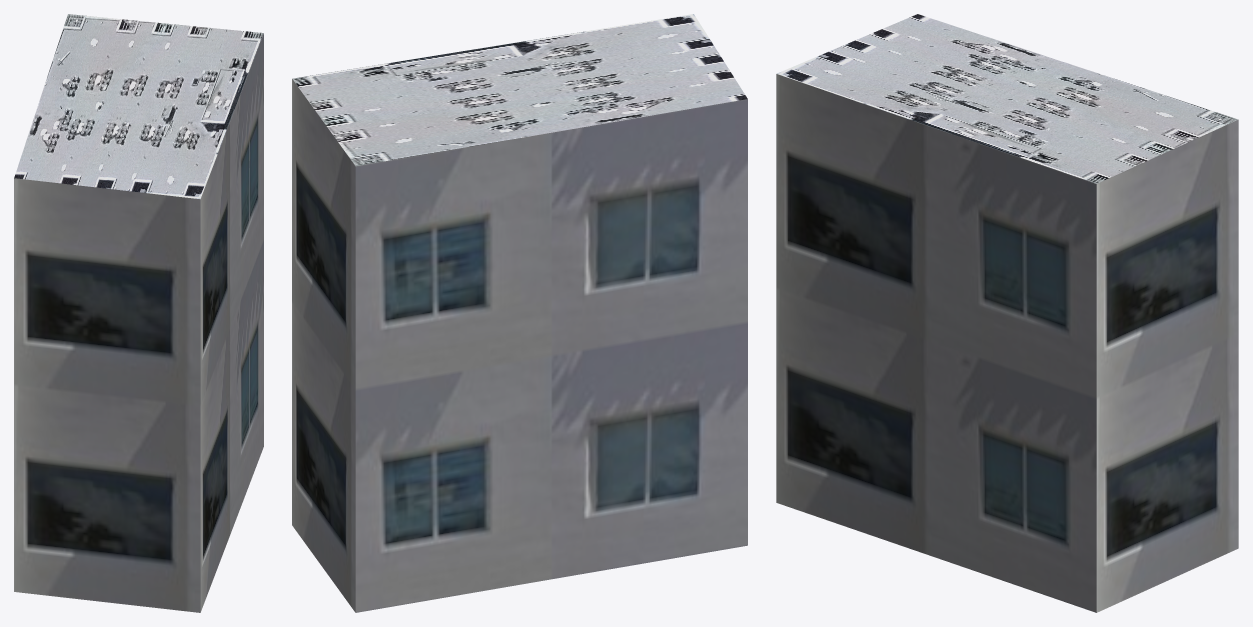
Rendered from ResTex__539.fbx.
3 views of the same model, side by side, from view 1: azimuth 30°, elevation 25°; view 2: azimuth 150°, elevation 25°; view 3: azimuth 270°, elevation 25° (orthographic). The views are drawn at different scales.
Parts seen in each view (by area): view 1: CityEngineMaterial_10_m, CityEngineMaterial_2_m; view 2: CityEngineMaterial_10_m, CityEngineMaterial_2_m; view 3: CityEngineMaterial_10_m, CityEngineMaterial_2_m.
Part boxes in pixels (x1=…): CityEngineMaterial_10_m: x1=14, y1=33, x2=263, y2=612; CityEngineMaterial_2_m: x1=14, y1=14, x2=263, y2=199; CityEngineMaterial_10_m: x1=292, y1=79, x2=747, y2=612; CityEngineMaterial_2_m: x1=292, y1=14, x2=747, y2=166; CityEngineMaterial_10_m: x1=776, y1=74, x2=1238, y2=612; CityEngineMaterial_2_m: x1=776, y1=14, x2=1237, y2=183.
Size of the model in its own units: 5.1 by 6 by 5.86.
Materials: 2 (2 with a texture image).
